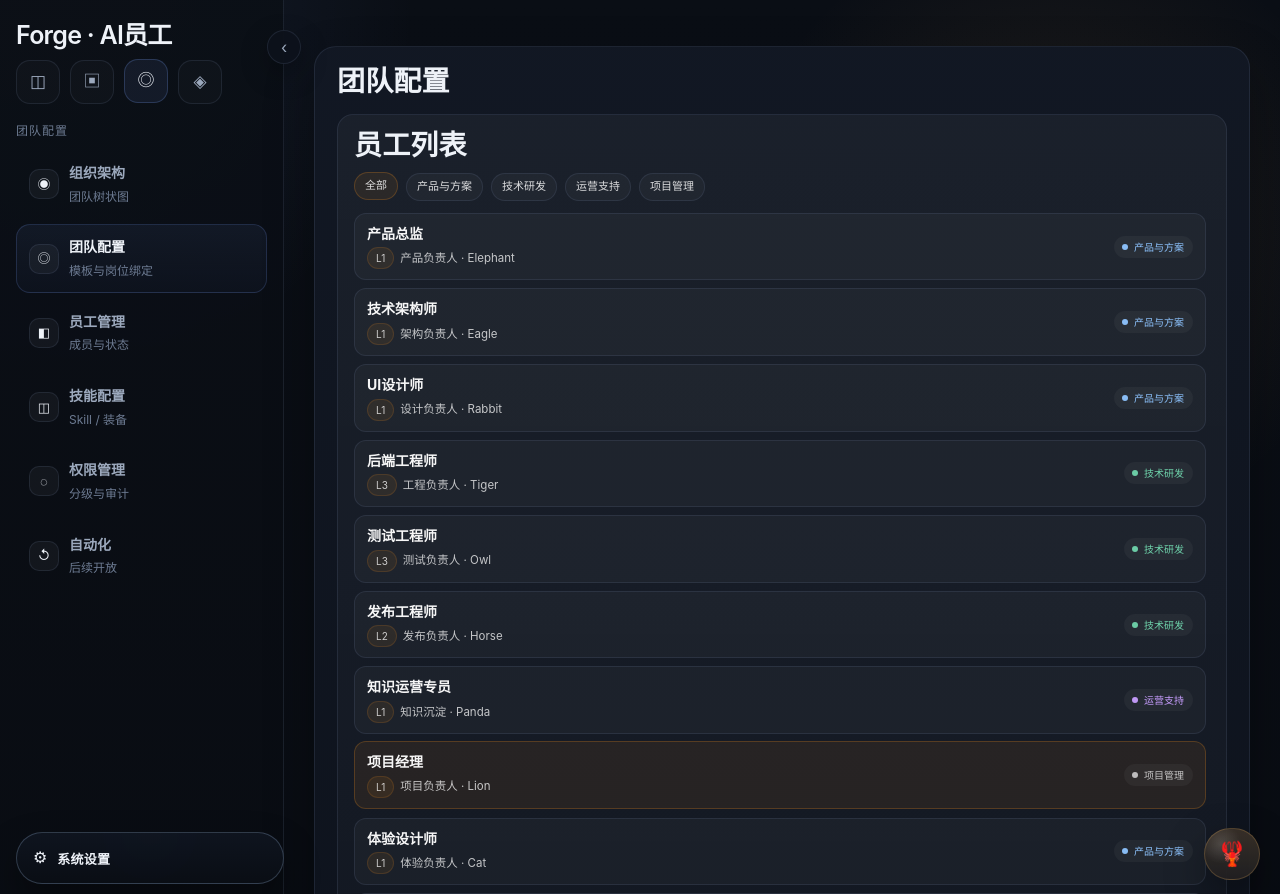
Test: Agent team page › shows the NanoClaw CEO backend summary on the project shepherd runtime panel
The width and height of the screenshot is (1280, 894).
Click the button "◧ 员工管理 成员与状态": click(142, 333) x1=16 y1=299 x2=267 y2=367
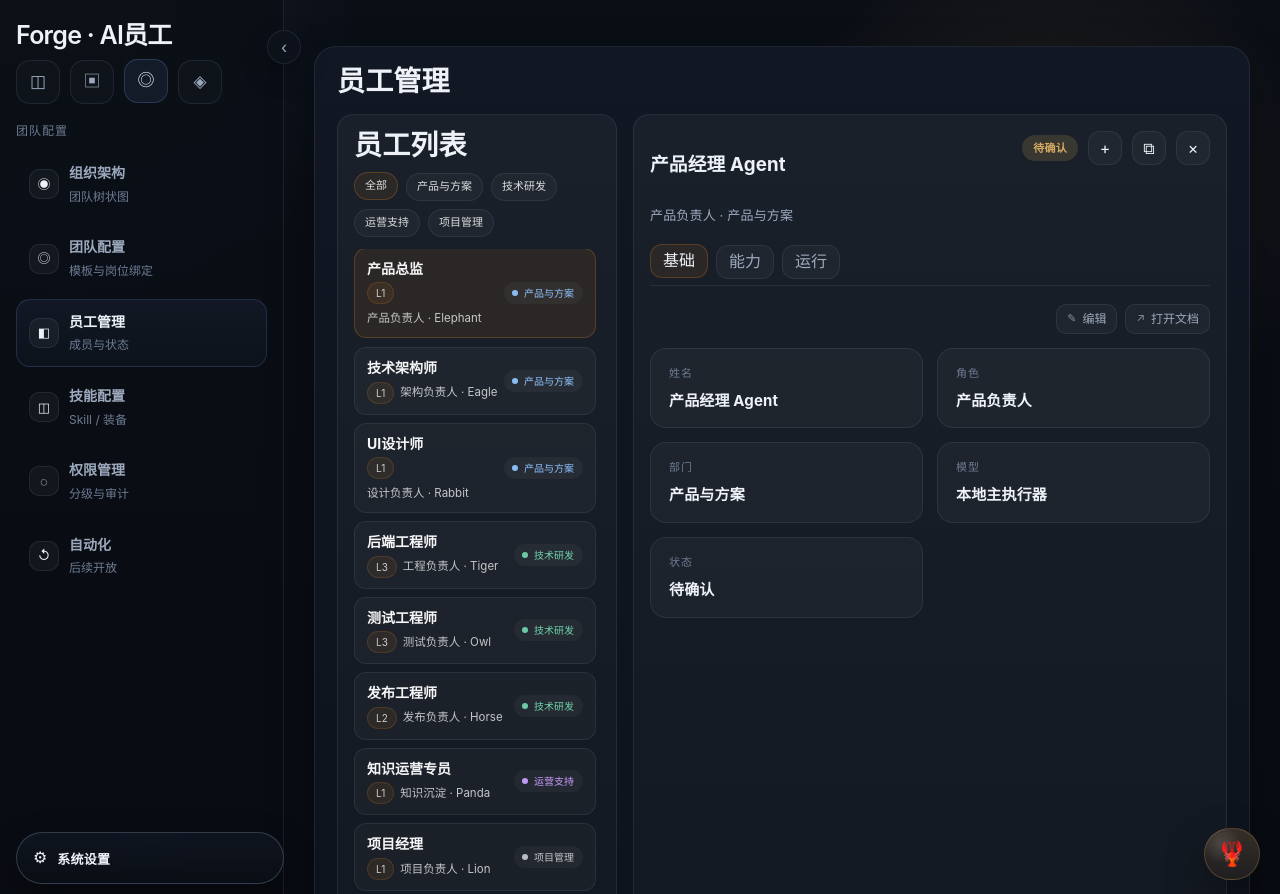
Click the button with aria-label "项目牧羊人 Agent": click(475, 857) x1=354 y1=823 x2=596 y2=891
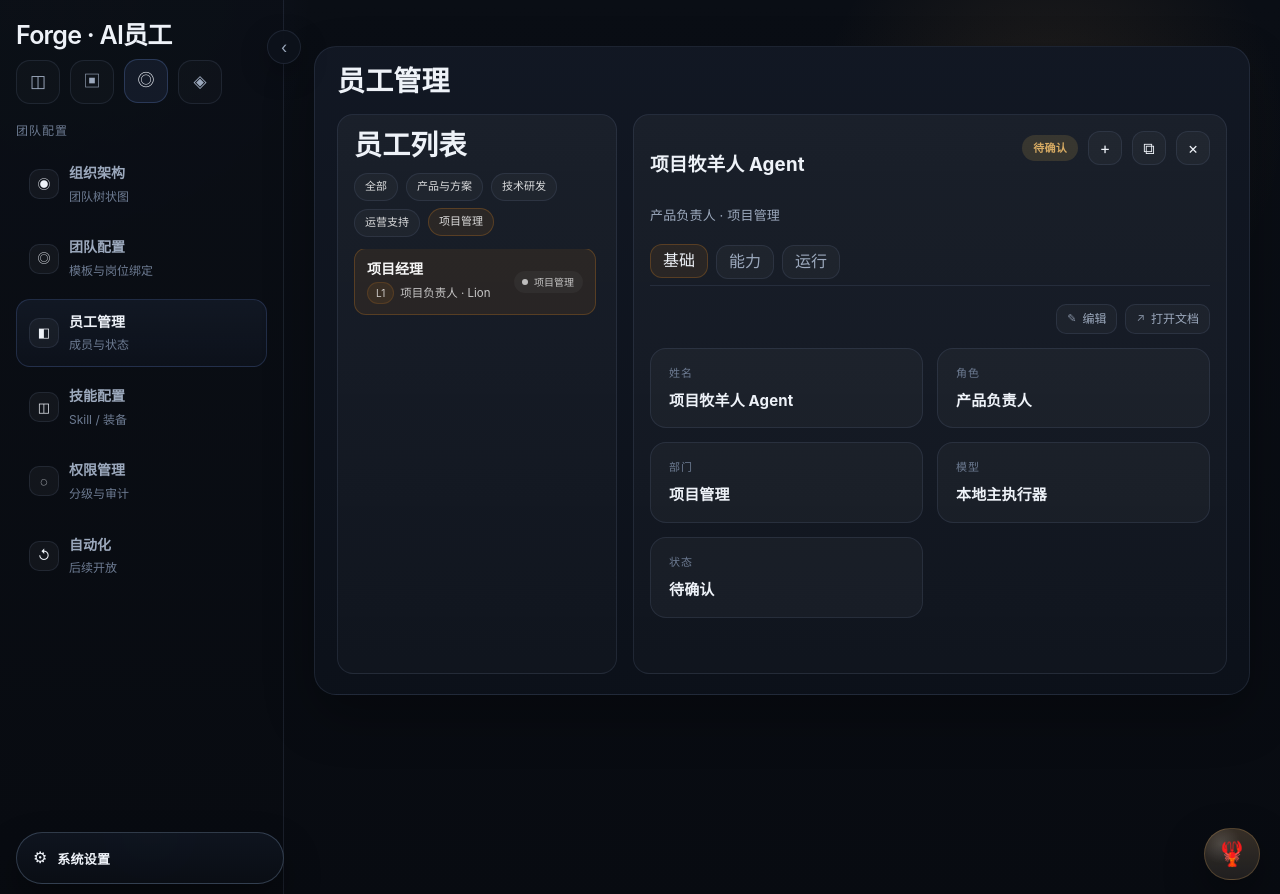
Click the button "运行": click(811, 262) x1=782 y1=245 x2=840 y2=279
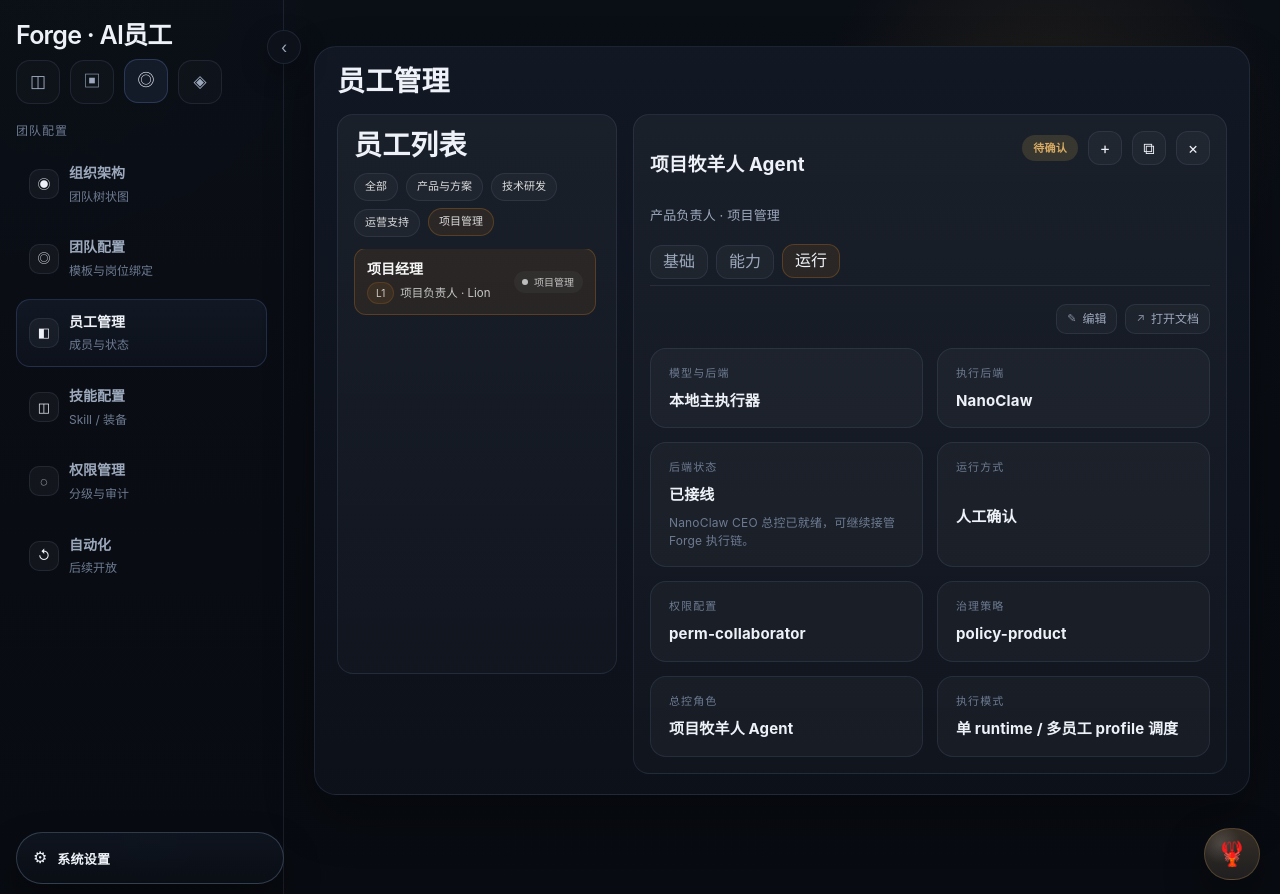
expect the text "执行后端" is shown: met, box x1=956 y1=367 x2=1004 y2=380
expect the text "NanoClaw" is shown: met, box x1=956 y1=391 x2=1033 y2=410
expect the text "总控角色" is shown: met, box x1=669 y1=695 x2=717 y2=708
